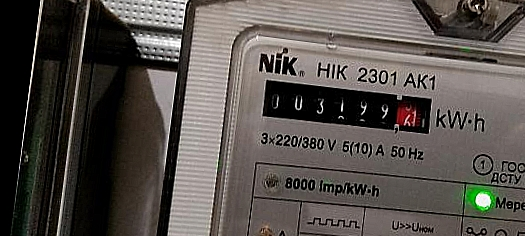0: (291, 92, 304, 112), (268, 90, 279, 109)
1: (335, 95, 346, 114)
3: (313, 95, 325, 116)
6: (400, 111, 412, 126)
9: (356, 96, 368, 117), (378, 101, 390, 120)
screen: (252, 67, 440, 144)
